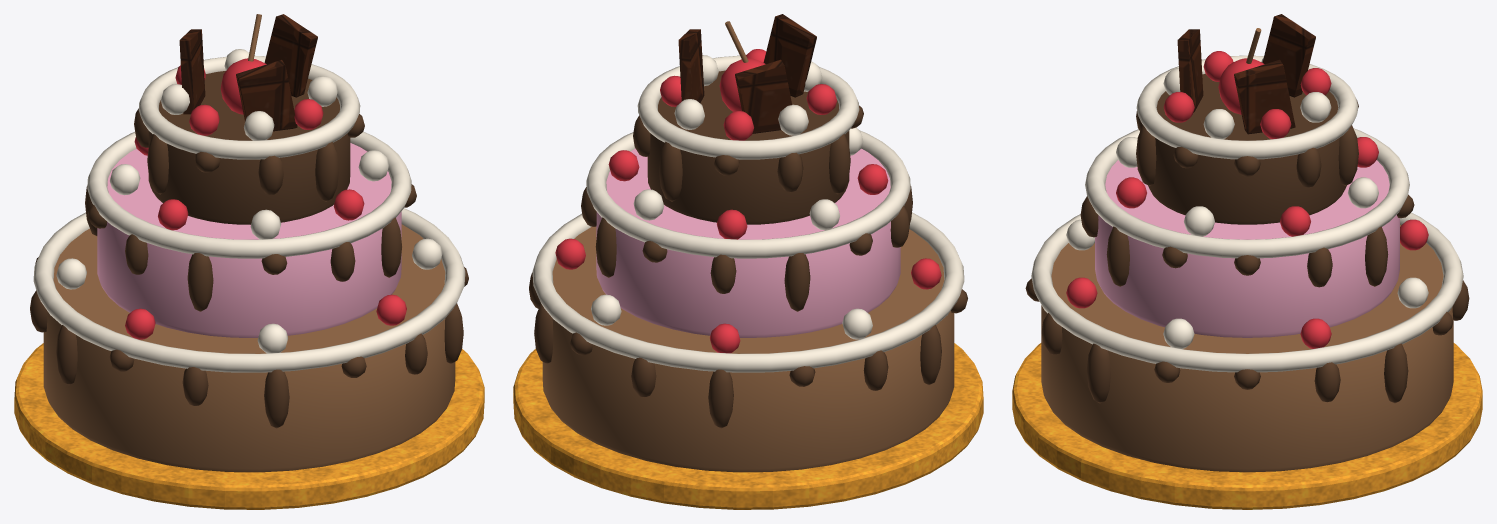
File: CHO_CakeDeco.fbx
3 views of the same model, side by side, from view 1: azimuth 30°, elevation 25°; view 2: azimuth 150°, elevation 25°; view 3: azimuth 270°, elevation 25° (orthographic).
Visible parts, largest first — view 1: CHO_CakeDeco; view 2: CHO_CakeDeco; view 3: CHO_CakeDeco.
Boxes of the visible parts, bbox=[...] form: CHO_CakeDeco: bbox=[14, 14, 484, 509]; CHO_CakeDeco: bbox=[513, 14, 983, 509]; CHO_CakeDeco: bbox=[1012, 14, 1482, 509].
Size of the model in its own units: 2.1 by 1.92 by 2.1.
